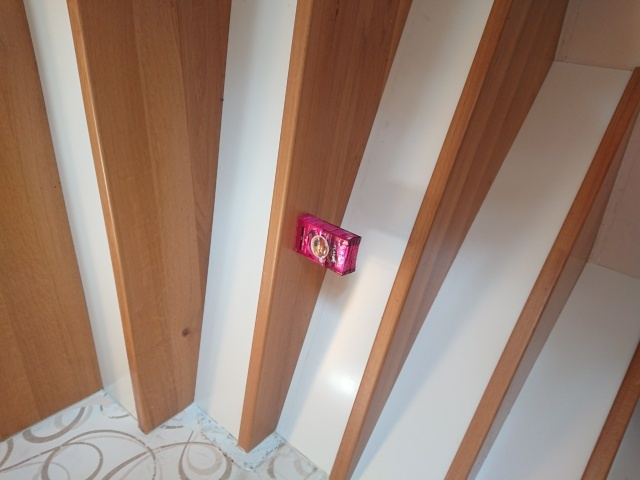Barcaffe Classic Original 225g: (293, 213, 364, 278)
